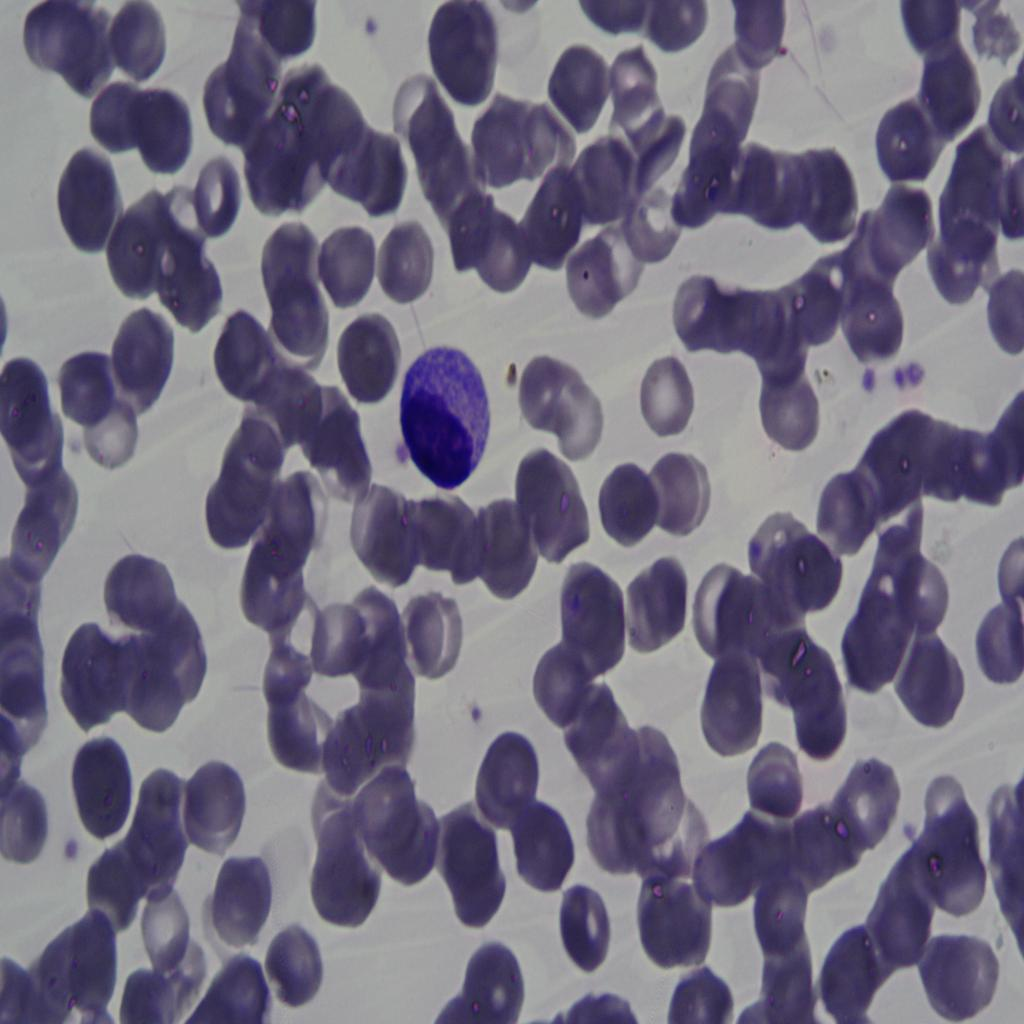Myeoblast: (388, 328, 498, 486)
Platelet: (52, 816, 83, 882), (352, 8, 392, 48), (856, 354, 883, 390), (898, 354, 920, 398), (466, 688, 484, 724)
